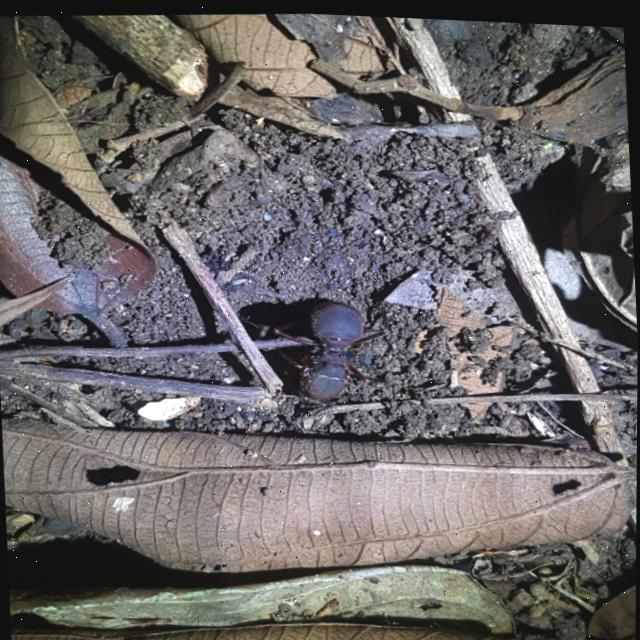Alive-Female-Dealate: (271, 292, 395, 403)
